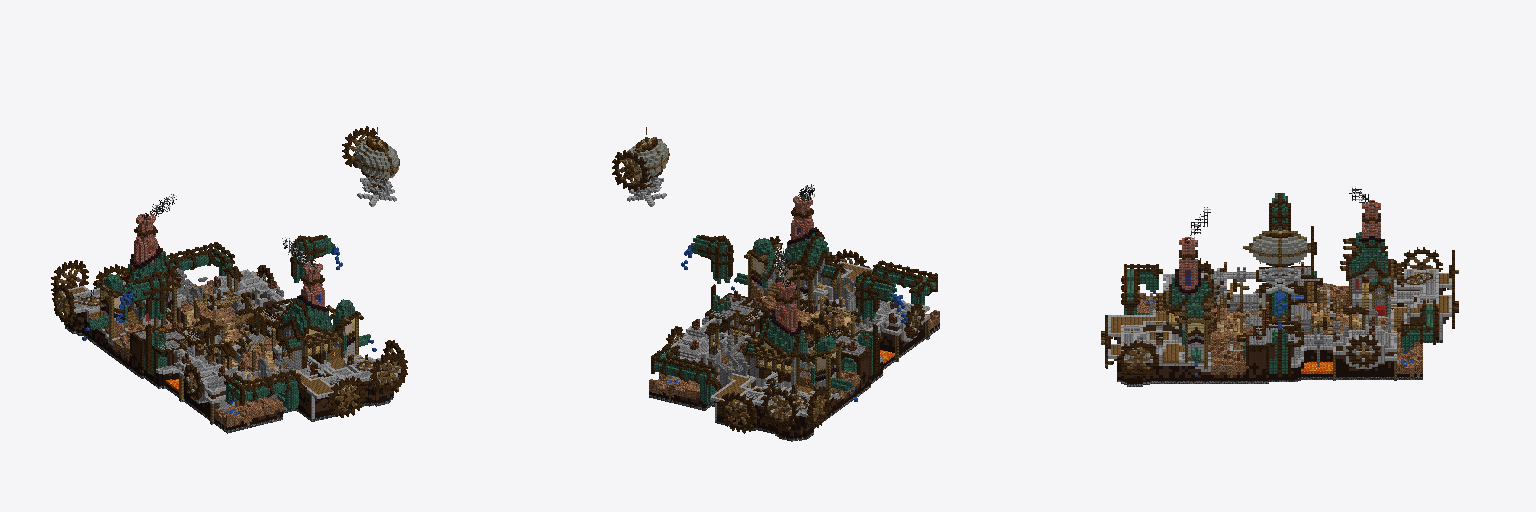
3 renders of one model, left to right at view 1: azimuth 30°, elevation 25°; view 2: azimuth 150°, elevation 25°; view 3: azimuth 270°, elevation 25°, orthographic.
Size of the model in its own units: 100 by 69 by 111.
Materials: 81 (81 with a texture image).